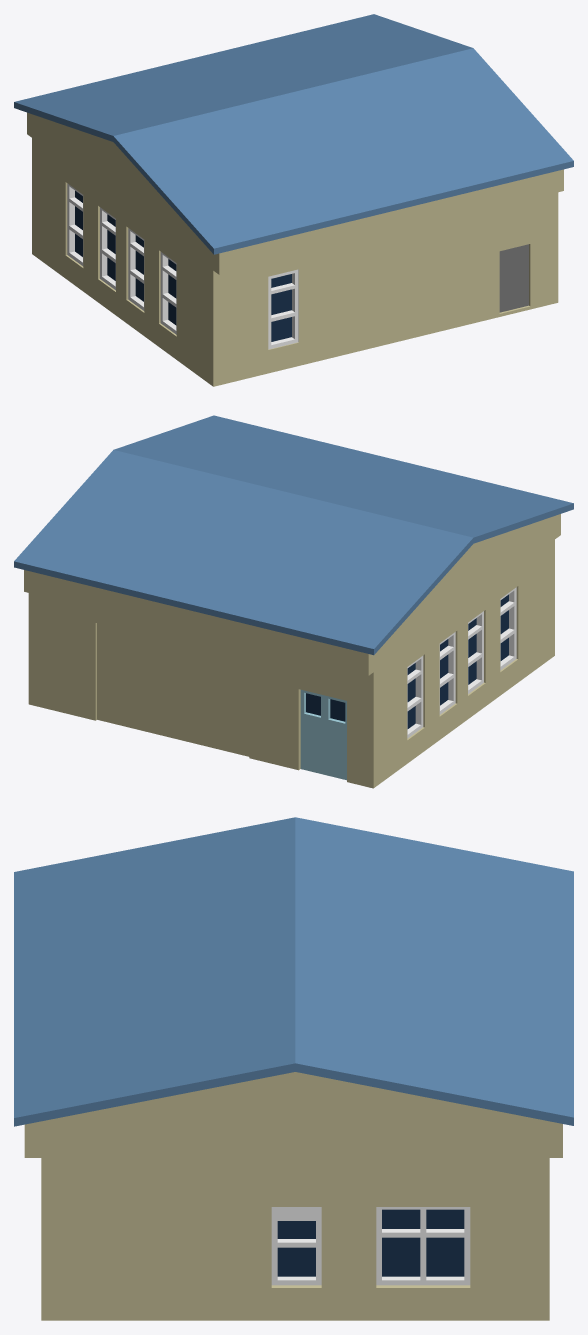
File: Building_z2.fbx
3 views of the same model, one above another, from view 1: azimuth 30°, elevation 25°; view 2: azimuth 150°, elevation 25°; view 3: azimuth 270°, elevation 25° (orthographic). The views are drawn at different scales.
Parts seen in each view (by area): view 1: Building_z2; view 2: Building_z2; view 3: Building_z2.
Boxes of the visible parts, bbox=[...] form: Building_z2: bbox=[14, 14, 573, 386]; Building_z2: bbox=[14, 415, 573, 788]; Building_z2: bbox=[14, 817, 573, 1320].
Size of the model in its own units: 9.94 by 4.93 by 9.56.
